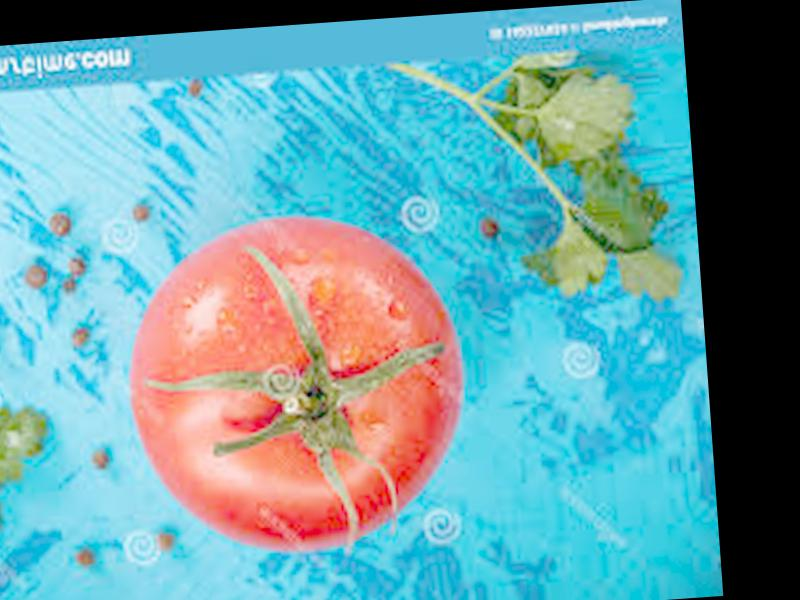Tomato: (119, 206, 474, 560)
